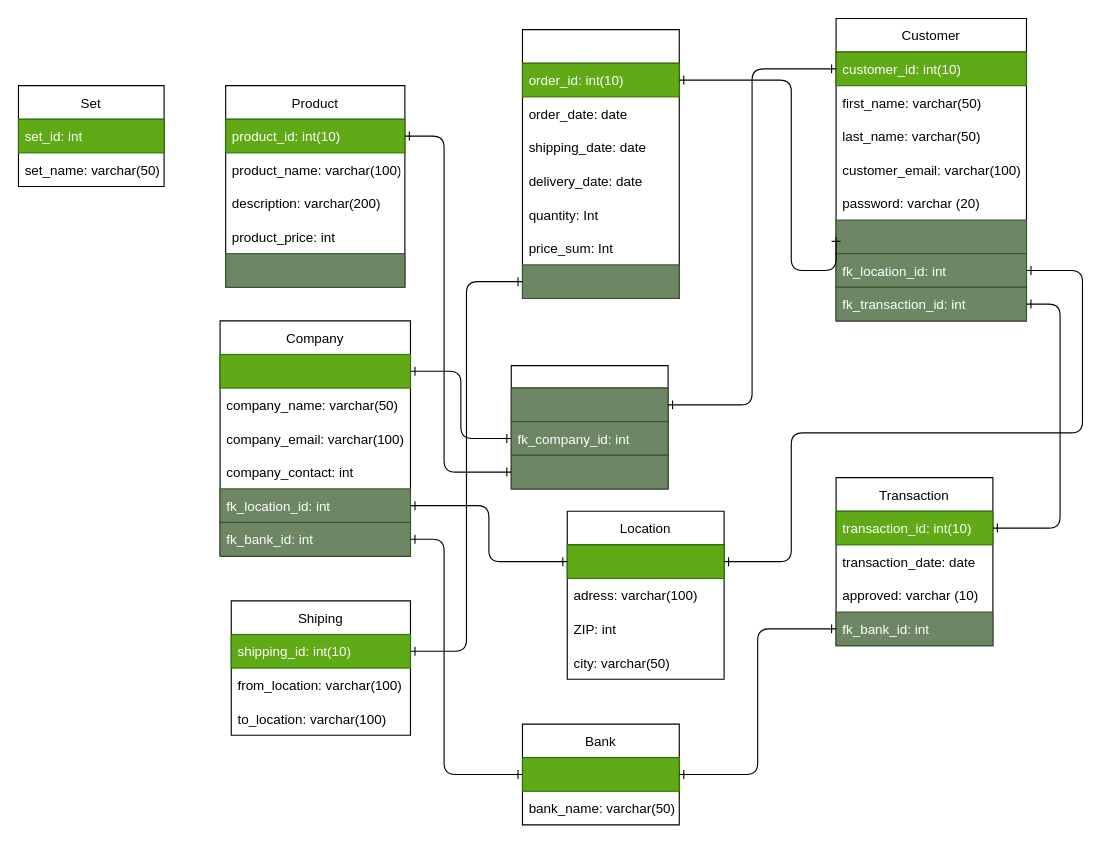
Some shapes in this 1101 by 843 pixel diagram are drawn without their labels. The box of each missing label's shape, as (x1, y1, x2, y2) in pixels:
bank_id: int(10): (521, 757, 679, 791)
company_id: int(10): (219, 353, 410, 388)
Famazon: (510, 365, 668, 489)
fk_customer_id: int: (510, 387, 668, 422)
fk_order_id: int: (835, 219, 1026, 254)
fk_product_id: int: (510, 454, 668, 489)
fk_set_id: int: (225, 253, 405, 287)
fk_shipping_id: int: (521, 264, 679, 298)
location_id: int(10): (566, 544, 724, 578)
Ordering: (521, 29, 679, 298)
